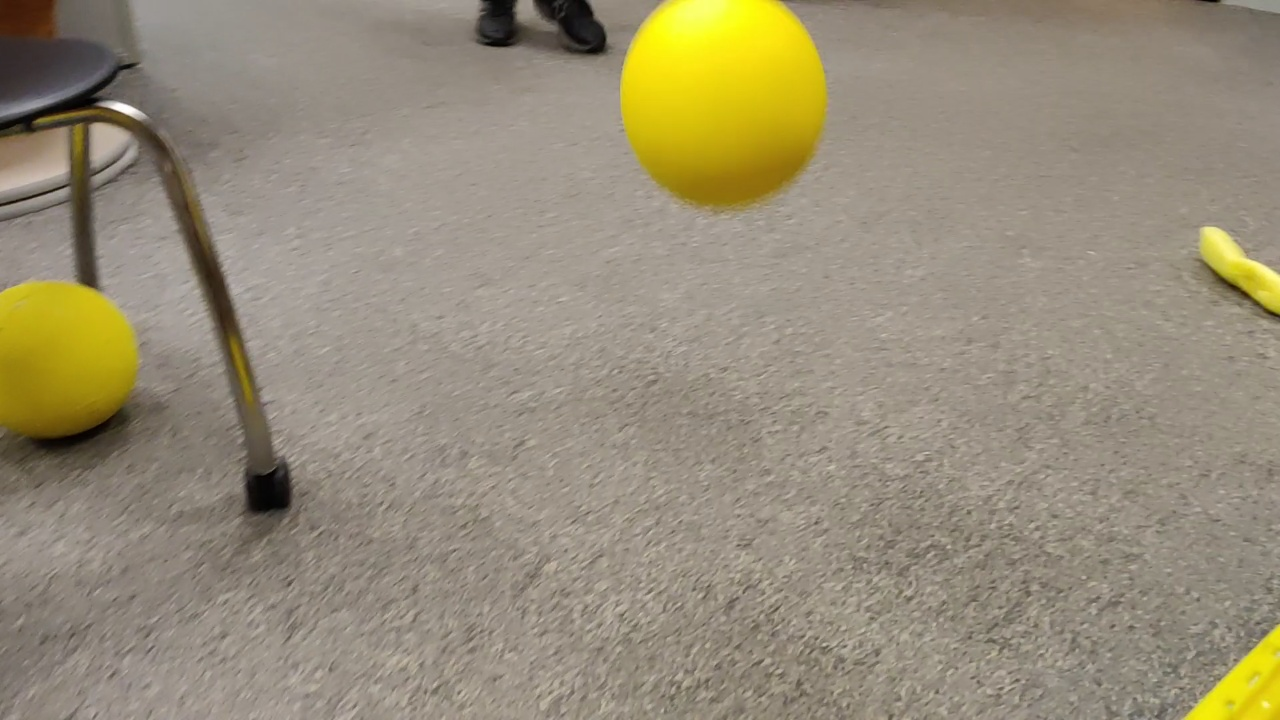Ball: (621, 1, 830, 212)
